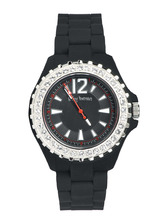watch: (25, 10, 141, 212)
